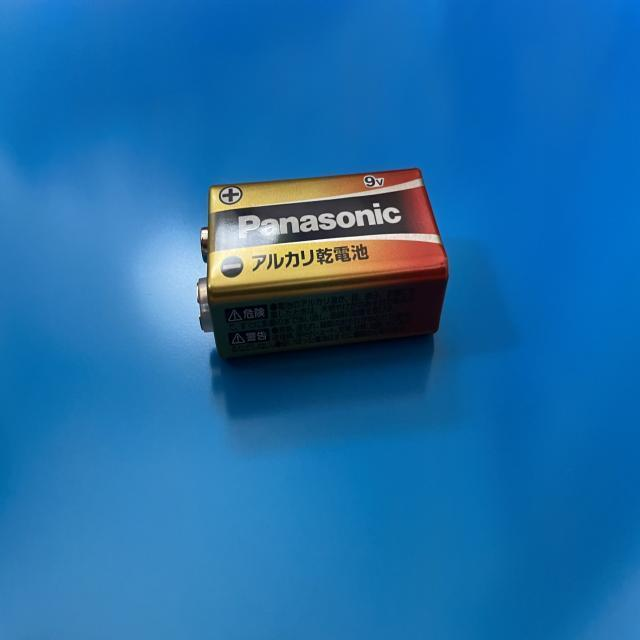9V: (196, 166, 450, 363)
